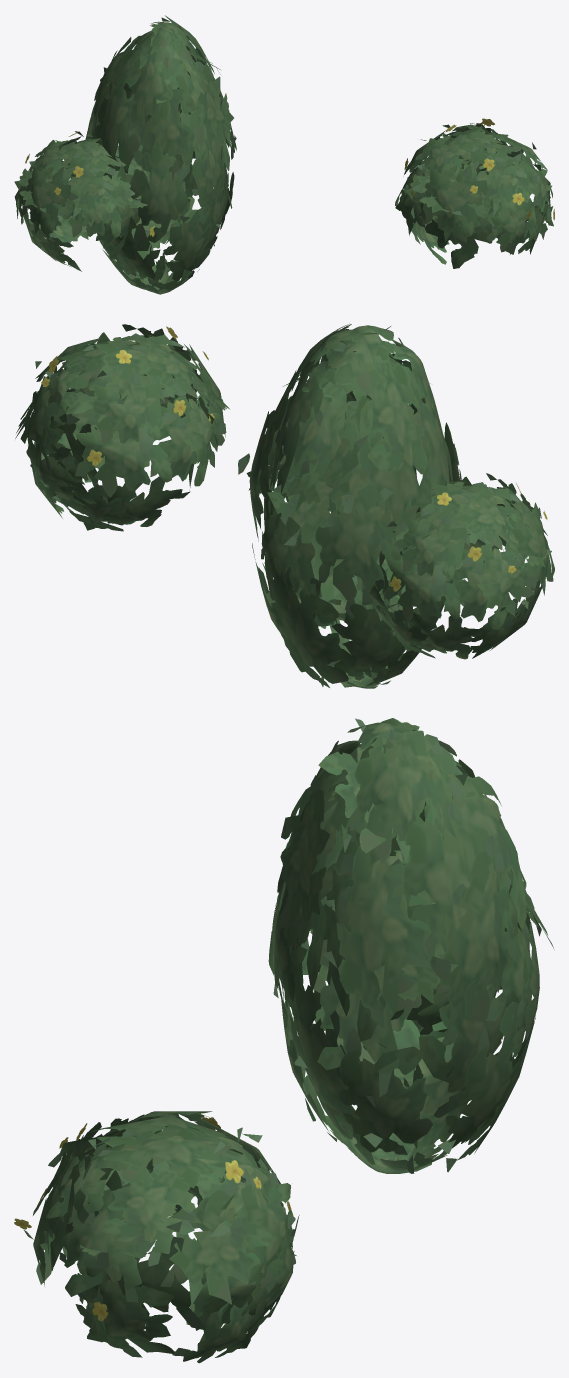
Rendered from pref_sm_beach_bk_pointmol_grassplant05_lv1.fbx.
The picture shows the model from 3 angles, top to bottom: view 1: azimuth 30°, elevation 25°; view 2: azimuth 150°, elevation 25°; view 3: azimuth 270°, elevation 25°; orthographic projection. The views are drawn at different scales.
Parts seen in each view (by area): view 1: pref_sm_beach_bk_pointmol_grassplant05_lv1; view 2: pref_sm_beach_bk_pointmol_grassplant05_lv1; view 3: pref_sm_beach_bk_pointmol_grassplant05_lv1.
Boxes of the visible parts, x1,y1,x2,y2 form: pref_sm_beach_bk_pointmol_grassplant05_lv1: [14, 15, 554, 294]; pref_sm_beach_bk_pointmol_grassplant05_lv1: [15, 324, 554, 688]; pref_sm_beach_bk_pointmol_grassplant05_lv1: [14, 718, 554, 1363].
Bounding box in the file's own units: 9.82 × 5.54 × 6.02.
